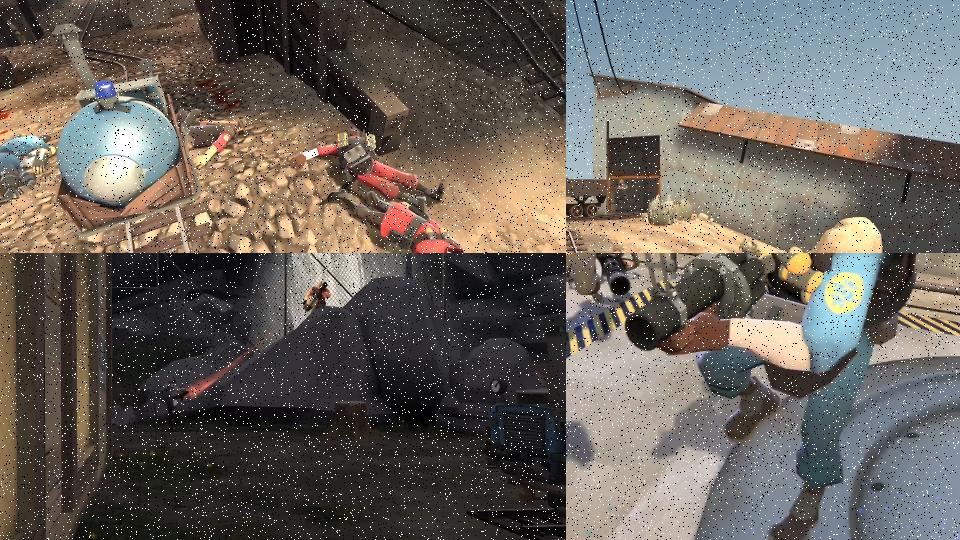Enemy: (622, 253, 920, 540), (287, 124, 456, 221), (317, 176, 483, 253), (175, 105, 254, 170), (0, 128, 57, 206), (162, 378, 194, 431), (302, 280, 330, 314), (616, 179, 627, 206)
